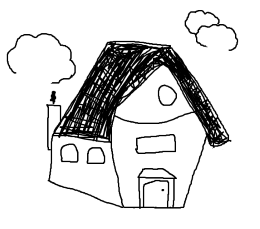clouds: (4, 26, 81, 89), (176, 7, 247, 53)
door: (132, 164, 184, 215)
open_window: (127, 131, 182, 155), (84, 141, 108, 175), (54, 141, 84, 167)
shaded_roof: (25, 34, 241, 156)
smoking_chimney: (36, 86, 66, 153)
wall: (108, 108, 213, 215)
